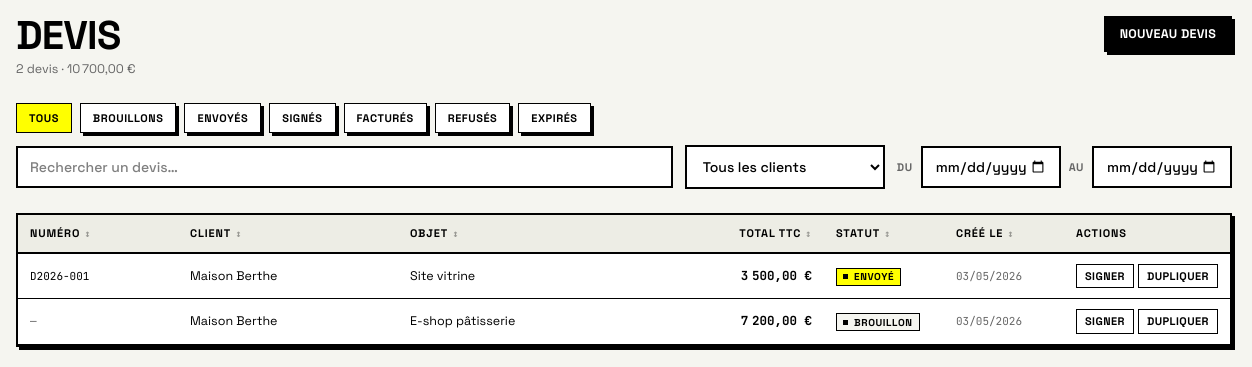
QuotesListRoute › filtre par statut via les chips
Expected: the text "Site vitrine" is shown, [410,268,475,284]
Click the button with test id "status-filter-draft" at (128, 118), box [80,103,176,133]
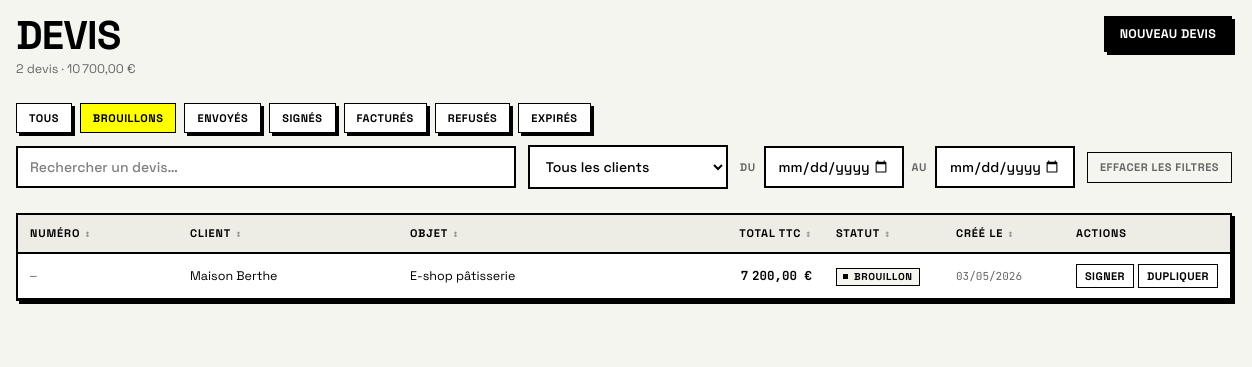
Expected: the text "E-shop pâtisserie" is shown, [410,268,515,284]
Expected: the text "Site vitrine" is gone
